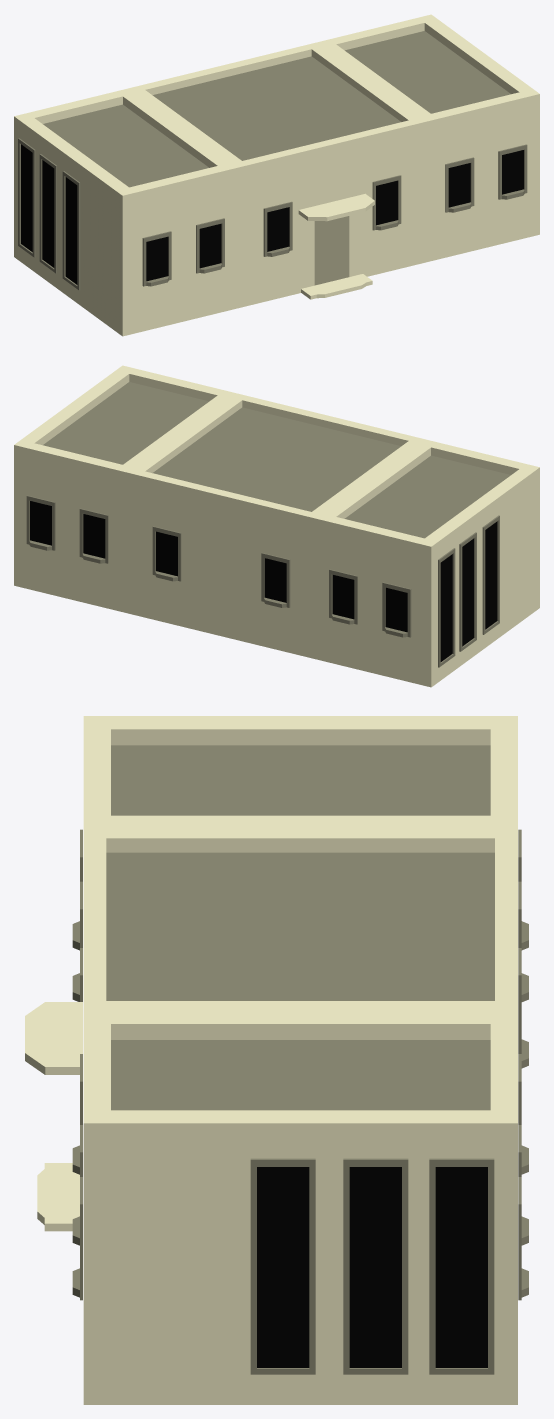
The model's file is buildings0.fbx.
3 views of the same model, one above another, from view 1: azimuth 30°, elevation 25°; view 2: azimuth 150°, elevation 25°; view 3: azimuth 270°, elevation 25° (orthographic). The views are drawn at different scales.
Parts seen in each view (by area): view 1: Building; view 2: Building; view 3: Building.
Boxes of the visible parts, x1,y1,x2,y2 form: Building: (14, 14, 539, 336); Building: (14, 365, 539, 687); Building: (25, 716, 528, 1404).
Size of the model in its own units: 448 by 143 by 232.
Materials: 1 (1 with a texture image).
